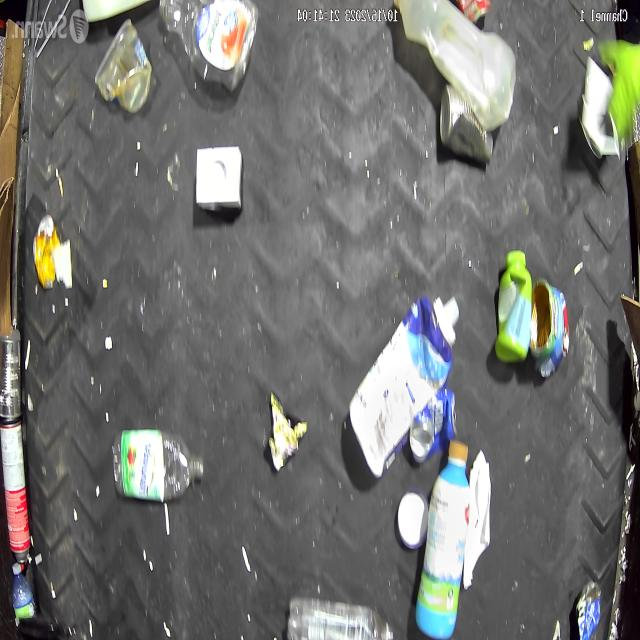can: (0, 416, 31, 569), (439, 82, 494, 166), (529, 278, 570, 378), (409, 389, 457, 463), (32, 213, 61, 289), (0, 327, 22, 416), (575, 578, 601, 640), (458, 0, 491, 27)
milk_jug: (393, 0, 517, 133)
plastic_bottle: (112, 426, 204, 499), (286, 594, 394, 640), (12, 561, 42, 640)
